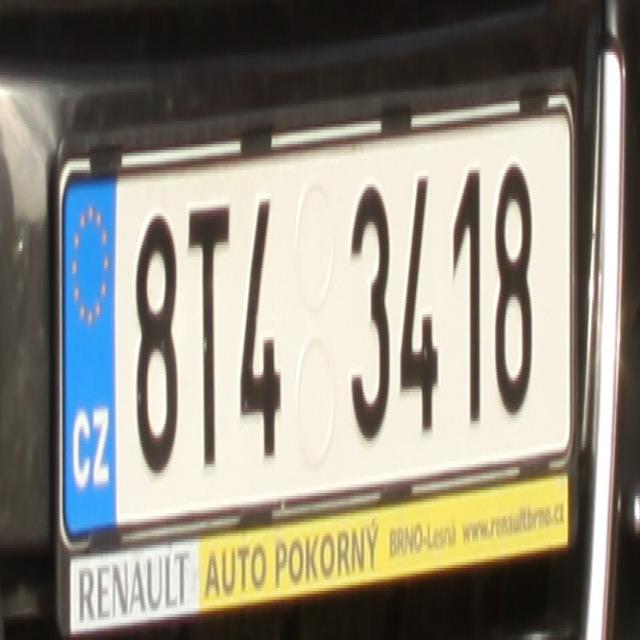1: (448, 164, 484, 418)
3: (345, 179, 391, 435)
4: (238, 190, 284, 467), (395, 170, 443, 433)
8: (130, 202, 178, 478), (490, 150, 532, 418)
T: (184, 199, 232, 473)
